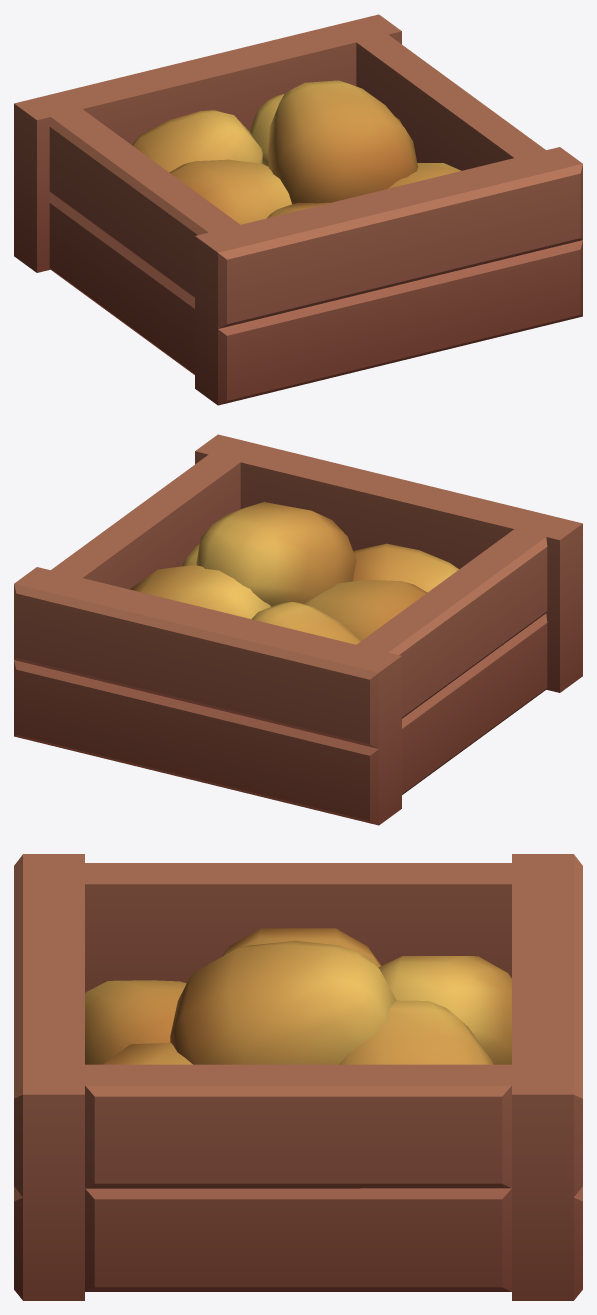
File: crate_potatoes.obj
The picture shows the model from 3 angles, top to bottom: view 1: azimuth 30°, elevation 25°; view 2: azimuth 150°, elevation 25°; view 3: azimuth 270°, elevation 25°; orthographic projection. The views are drawn at different scales.
Parts seen in each view (by area): view 1: crate_potatoes_Cube.228; view 2: crate_potatoes_Cube.228; view 3: crate_potatoes_Cube.228.
Part boxes in pixels (left/top/right/bottom): crate_potatoes_Cube.228: left=14, top=14, right=582, bottom=405; crate_potatoes_Cube.228: left=14, top=434, right=582, bottom=825; crate_potatoes_Cube.228: left=14, top=854, right=582, bottom=1300.
Bounding box in the file's own units: 2 × 0.9658 × 2.
Materials: 1 (1 with a texture image).
